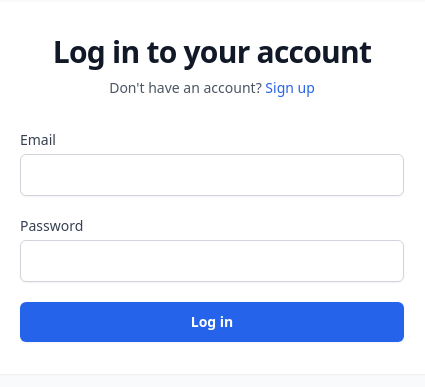
Scenario: Login page › shows a validation error when submitting an empty form
This screenshot has width=425, height=387.
Click the button "Log in". click: [212, 322]
box: x1=20 y1=302 x2=404 y2=342
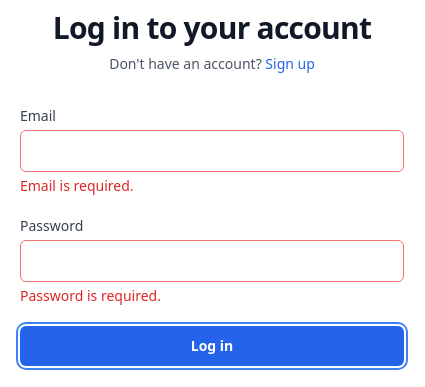
Expected: the text "Email is required." is shown, x1=20 y1=176 x2=134 y2=195
Expected: the text "Password is required." is shown, x1=20 y1=286 x2=161 y2=305
